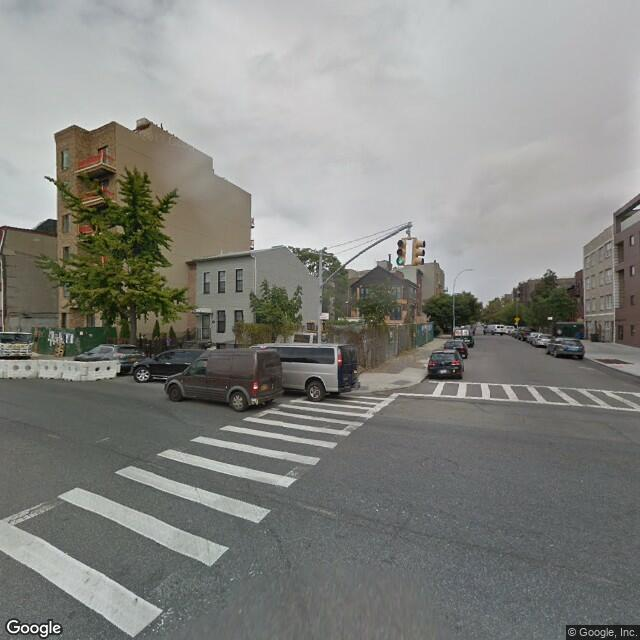litter: (52, 334, 70, 359)
